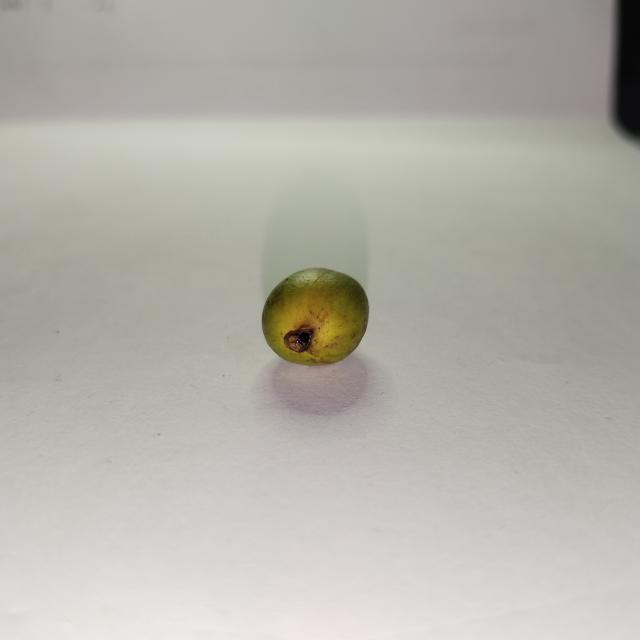Infectado: (261, 268, 371, 368)
